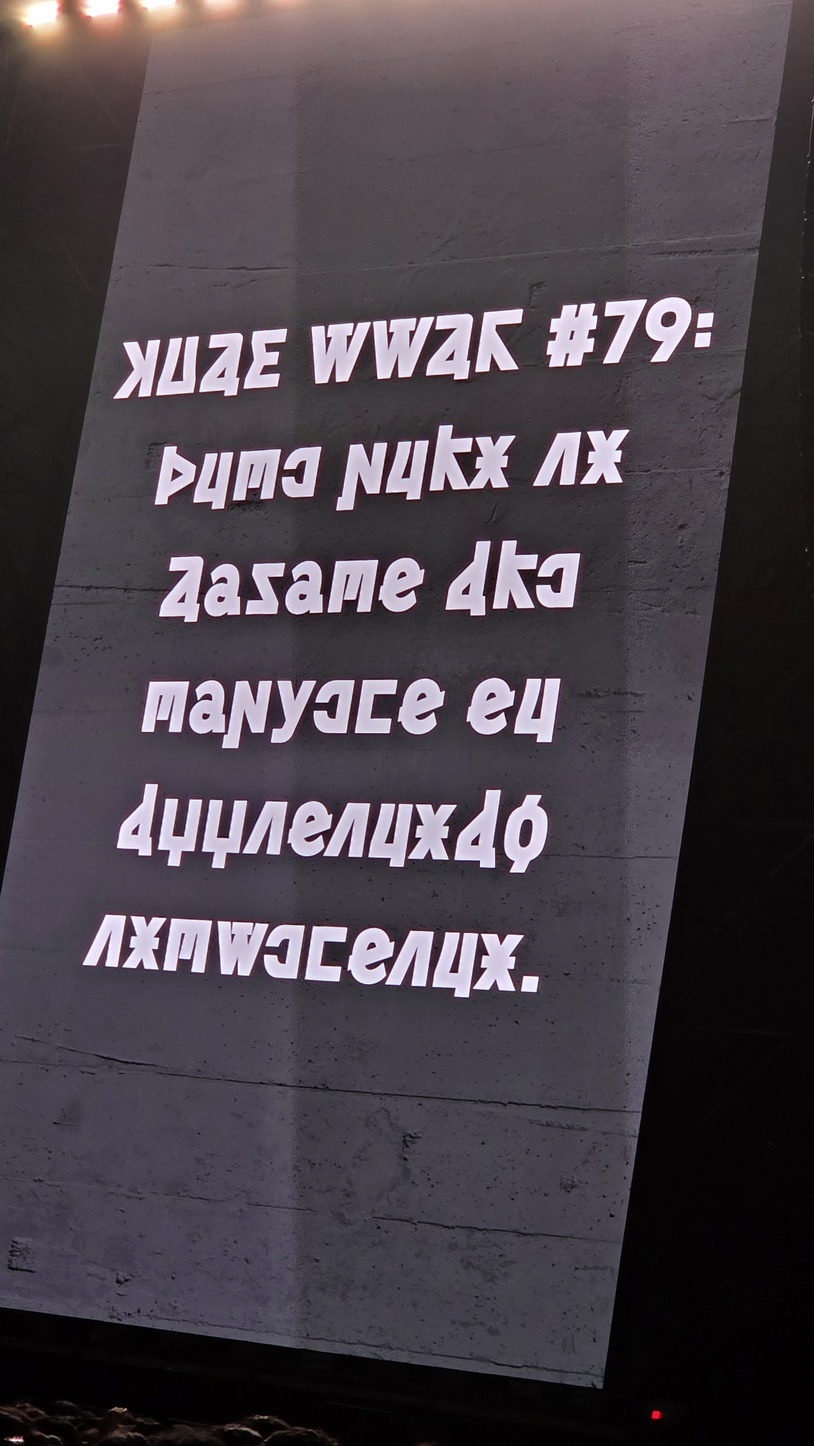7: (597, 293, 653, 370)
9: (639, 291, 698, 368)
A: (420, 308, 479, 386), (153, 550, 210, 628), (193, 327, 249, 402)
M: (108, 334, 166, 404)
O: (151, 331, 205, 401)
P: (367, 311, 440, 385), (305, 316, 377, 389)
R: (469, 303, 529, 378)
T: (238, 323, 293, 395)
TH: (149, 441, 202, 510)
a: (447, 783, 508, 875), (438, 534, 498, 623), (110, 777, 165, 862)
b: (330, 436, 394, 517), (216, 674, 279, 755)
c: (300, 921, 352, 987), (350, 675, 403, 738)
d: (195, 793, 254, 875), (151, 792, 208, 873)
e: (531, 548, 585, 613), (259, 920, 310, 984), (309, 675, 359, 738), (277, 442, 326, 502)
g: (241, 558, 290, 619)
i: (380, 925, 439, 992), (528, 427, 586, 491), (318, 798, 375, 862), (238, 796, 293, 860), (78, 910, 132, 973)
j: (265, 675, 322, 749)
l: (497, 788, 555, 880)
n: (468, 928, 529, 997), (575, 424, 635, 489), (403, 799, 462, 865), (117, 911, 172, 974), (468, 430, 520, 494)
o: (426, 926, 484, 1003), (508, 673, 567, 748), (362, 798, 419, 873), (380, 435, 434, 505), (188, 447, 239, 515)
p: (213, 916, 274, 981)
r: (486, 534, 544, 615), (423, 419, 479, 497)
s: (323, 555, 383, 618), (158, 914, 217, 978), (228, 444, 286, 505), (137, 677, 194, 737)
t: (461, 673, 520, 740), (342, 923, 400, 990), (392, 673, 450, 739), (373, 553, 430, 617), (282, 796, 338, 861)
u: (281, 556, 328, 620), (184, 675, 230, 739), (199, 559, 245, 621)
